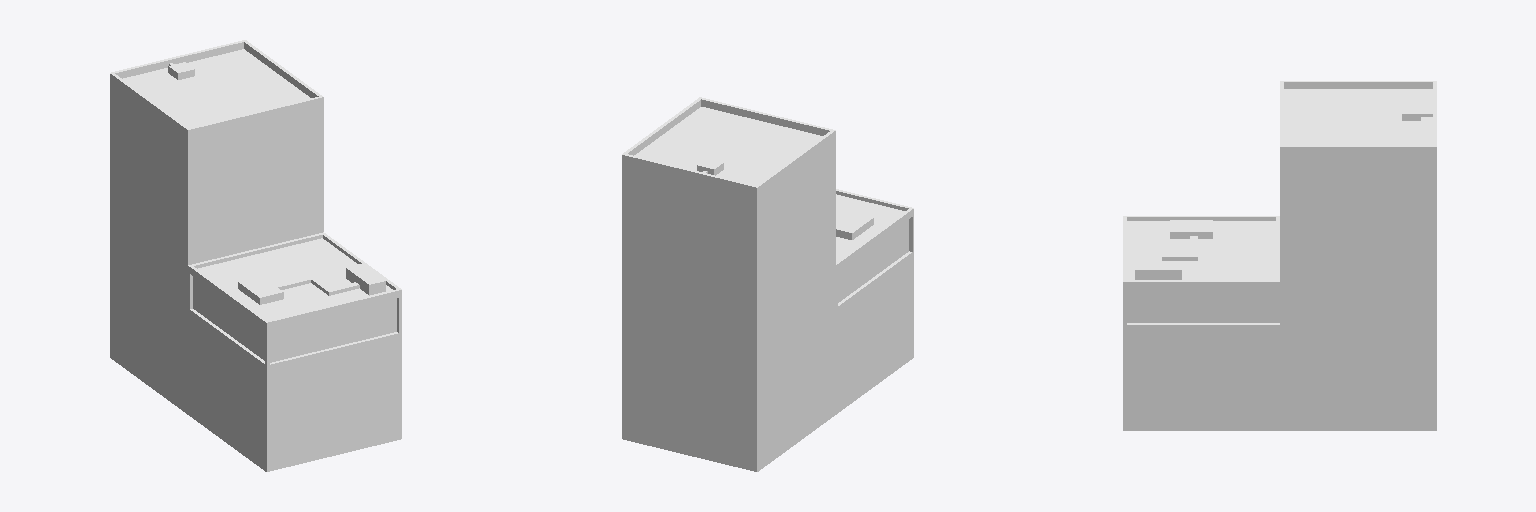
The model's file is Road_straight-8.obj.
3 renders of one model, left to right at view 1: azimuth 30°, elevation 25°; view 2: azimuth 150°, elevation 25°; view 3: azimuth 270°, elevation 25°, orthographic.
Visible parts, largest first — view 1: Road_straight-8; view 2: Road_straight-8; view 3: Road_straight-8.
Boxes of the visible parts, x1,y1,x2,y2 form: Road_straight-8: [110, 40, 401, 471]; Road_straight-8: [622, 97, 913, 471]; Road_straight-8: [1123, 81, 1436, 430].
Size of the model in its own units: 40 by 80 by 80.